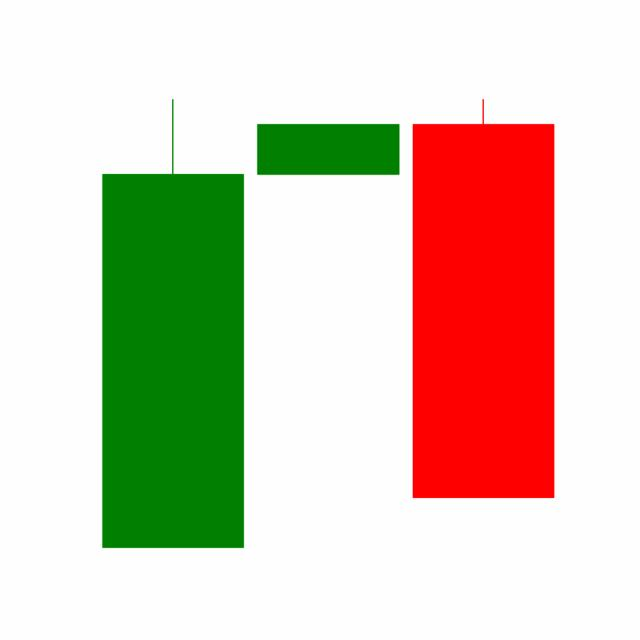Marubozu: (405, 94, 561, 502)
